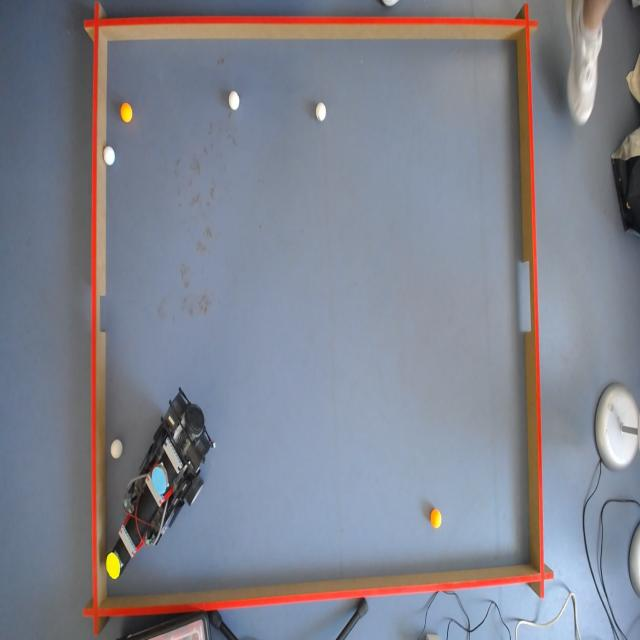orange: (120, 104, 134, 124)
robot: (105, 394, 216, 576)
robot-front: (107, 555, 122, 576)
robot-rear: (149, 464, 169, 497)
white: (314, 100, 326, 122), (431, 509, 443, 530), (228, 91, 240, 111), (104, 146, 115, 166), (112, 439, 124, 457)
